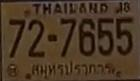2: (27, 18, 44, 56)
5: (115, 16, 132, 54), (97, 17, 113, 55)
6: (78, 18, 94, 55)
7: (8, 18, 25, 57), (60, 18, 75, 56)
SPK: (28, 61, 112, 76)
